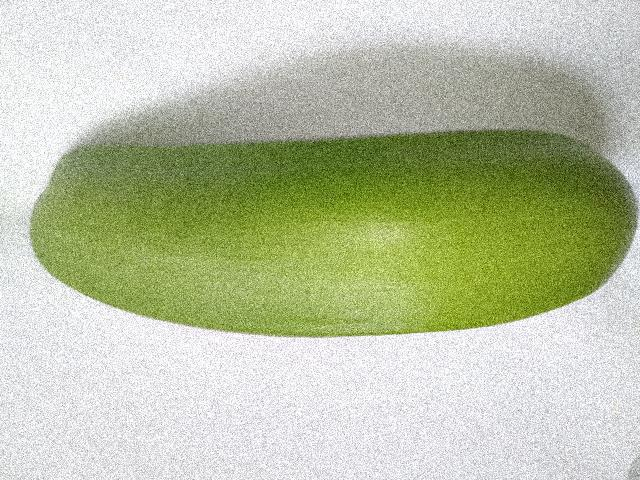freshunripe: (18, 119, 639, 345)
